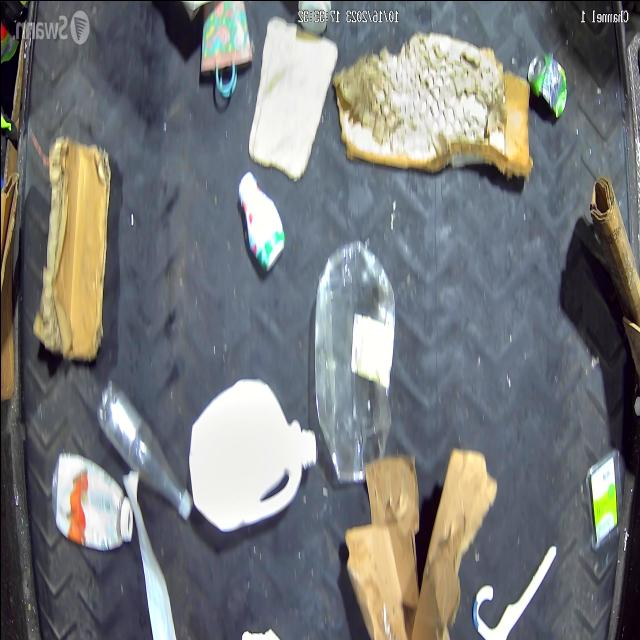can: (520, 48, 572, 128)
milk_jug: (184, 376, 316, 550)
plastic_bottle: (314, 236, 392, 496), (49, 446, 138, 552)
